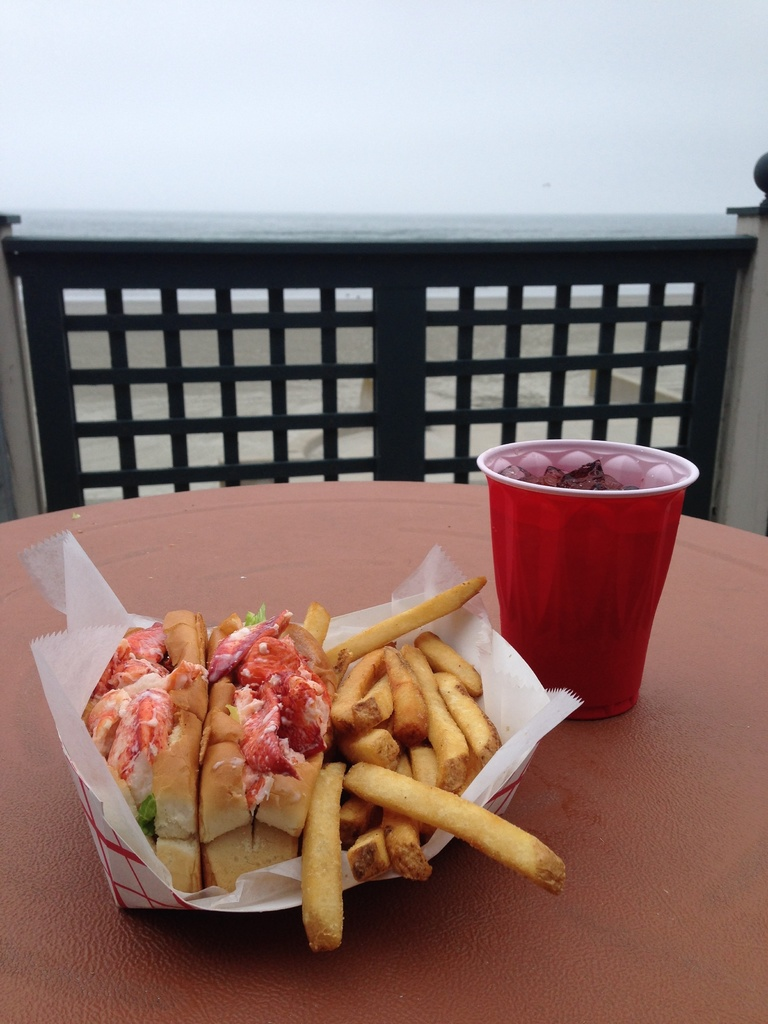French fries: (287, 588, 578, 970)
